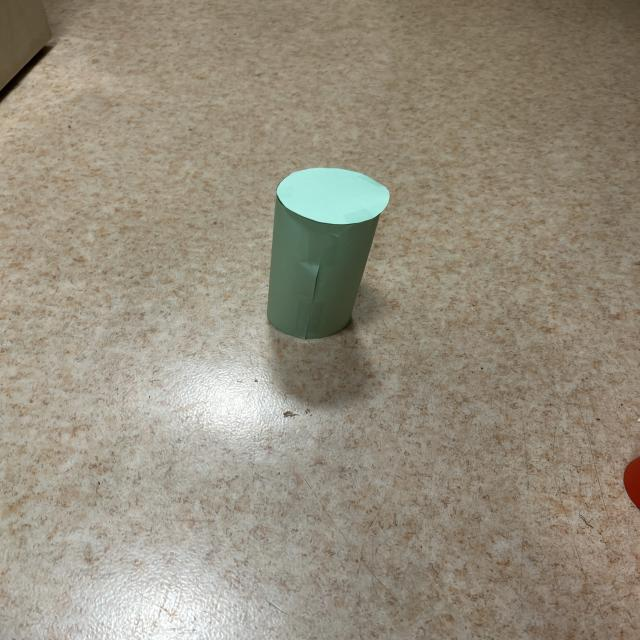meta: (267, 168, 389, 339)
